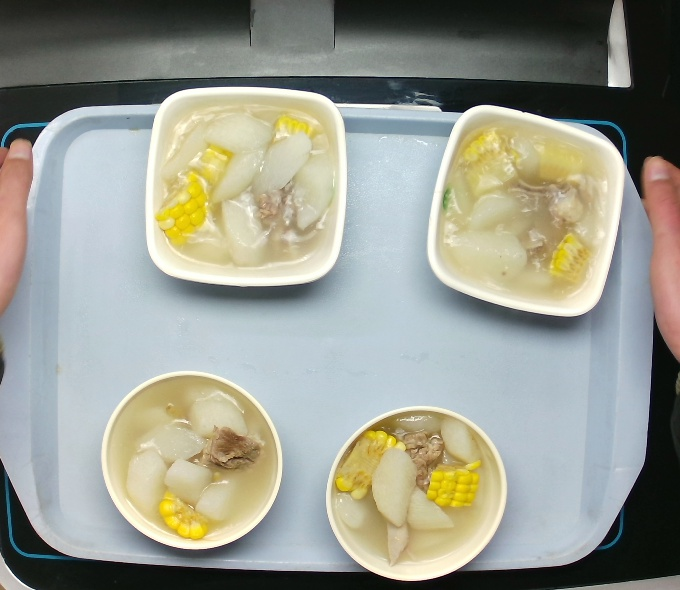wcq-ShanYaoYuMiTang: (433, 115, 613, 306), (152, 98, 337, 271), (328, 406, 500, 577), (105, 374, 278, 542)
